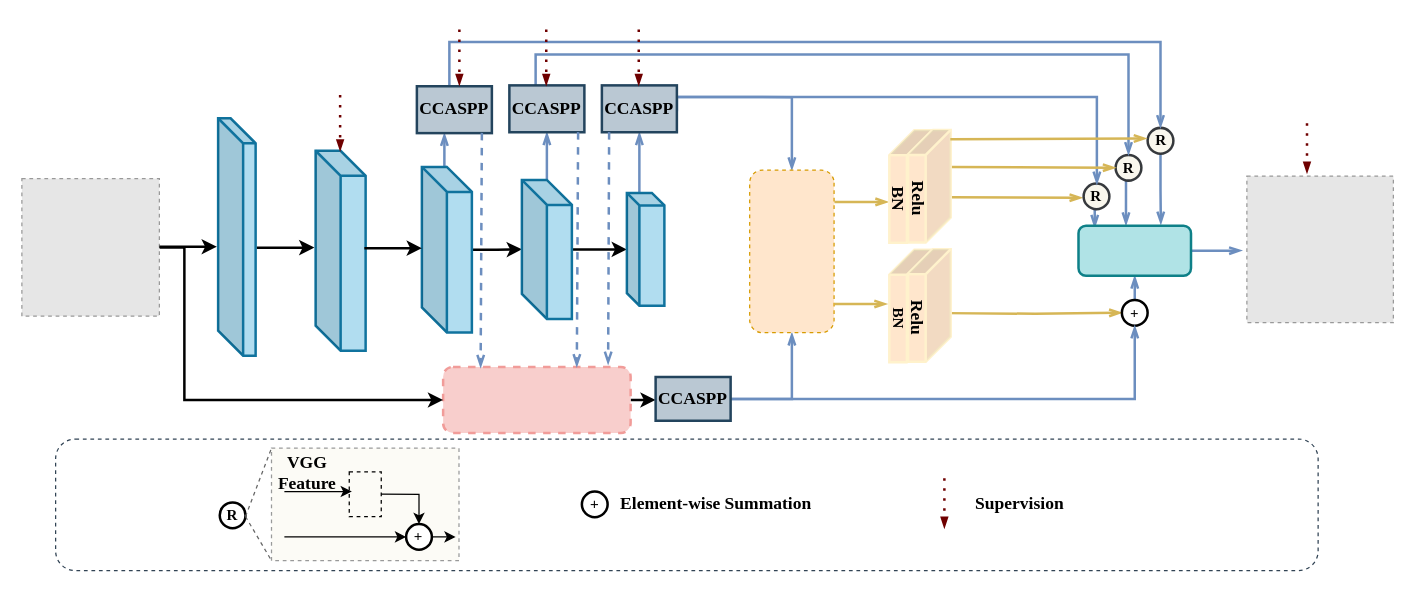
The diagram is 1416 pixels wide and 593 high, and some of its shapes have lost their labels. Grey dashed boxes stand in for pictures. The shapes that lost their labels are listed below. From the top down, each one's centre as x and y in pixels, then its label:
(x=791, y=251): AFIM
(x=1134, y=250): Fusion
(x=536, y=399): Depth Estimator
(x=364, y=493): up
